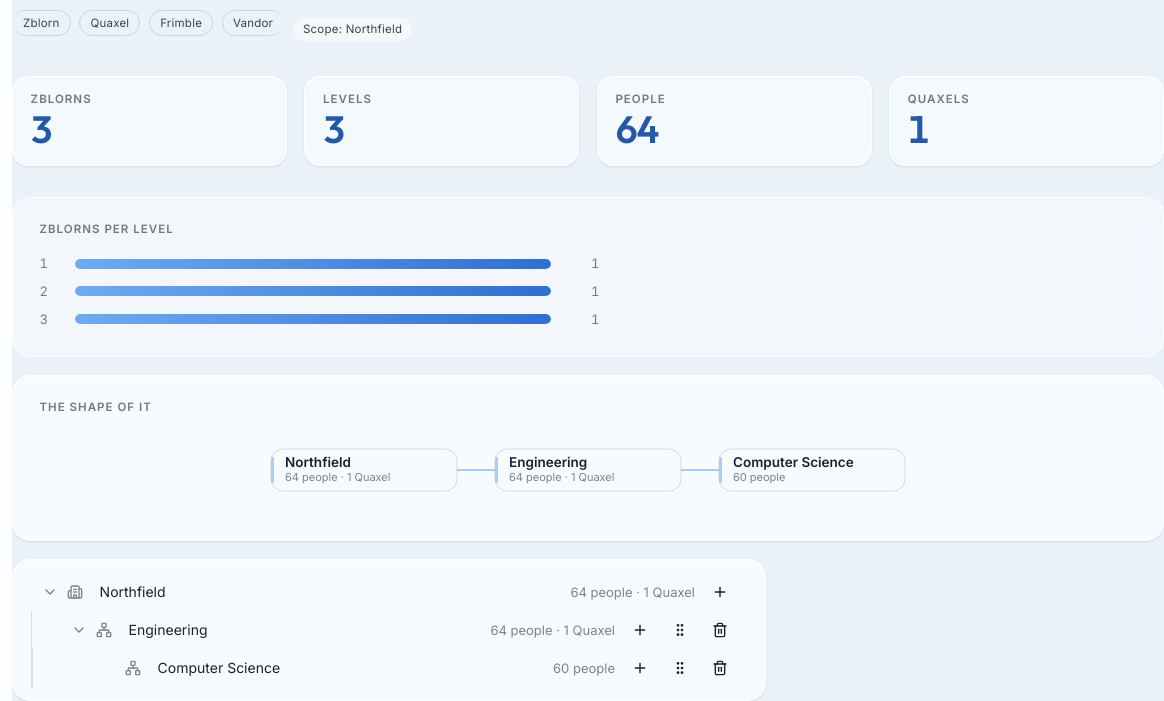
Test: renaming › says why when the rename could not be saved
(page scrolled)
Replace the text in the 3rd field showing "Computer Science" with "Engineering" at (347, 668), box [147,650,547,685]
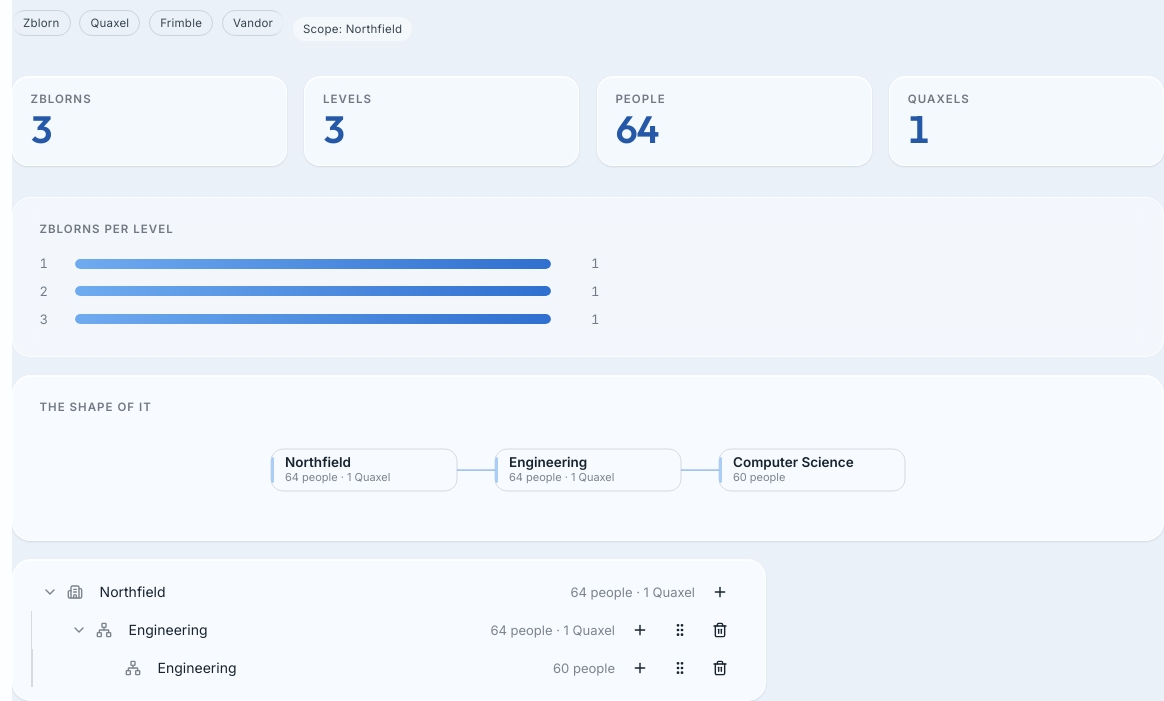
Press Enter in the 3rd field showing "Computer Science", box [147,650,547,685]
(page scrolled)
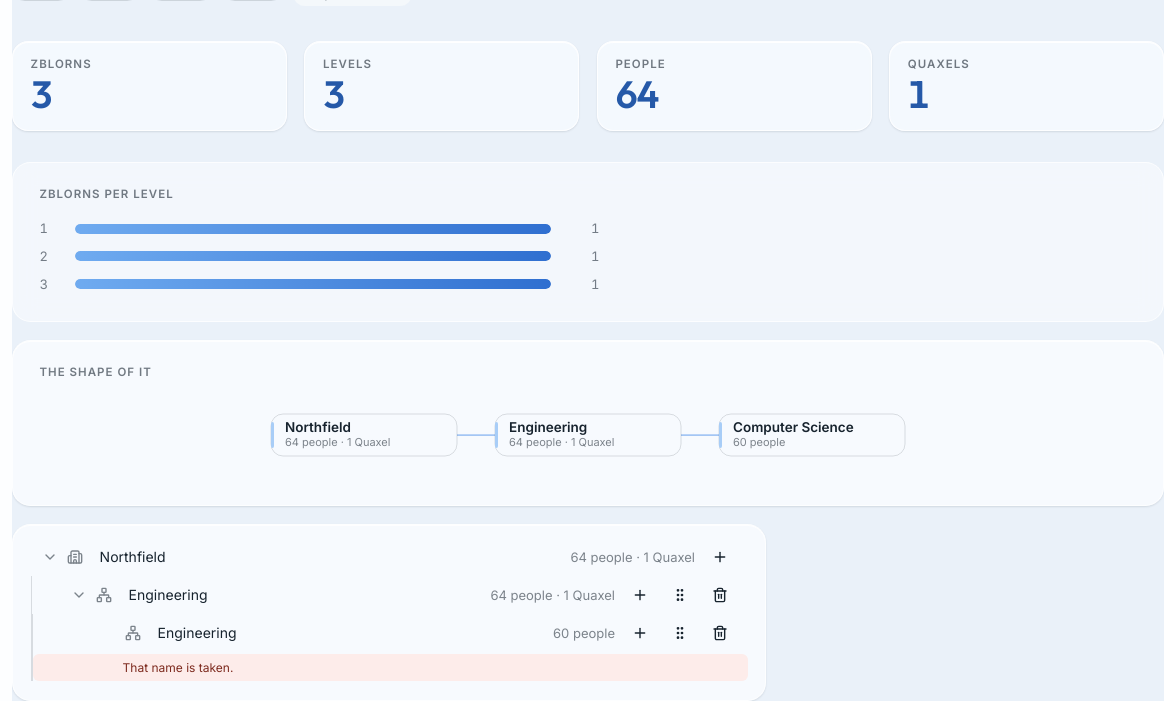
Expected: the message reads "That name is taken.", [123,660,233,675]
